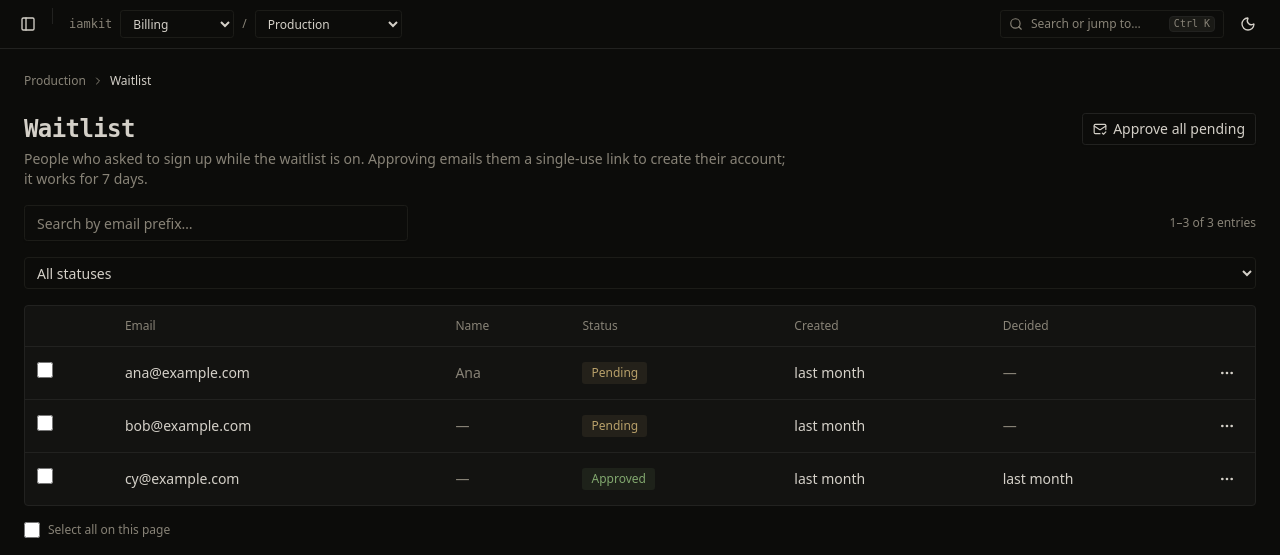
Test: filters by status and searches by email prefix
This screenshot has width=1280, height=555.
Expected: the text "ana@example.com" is shown, [125, 362, 250, 382]
Select "Approved" in the dropdown named "Filter by status". click: (640, 273)
box: [24, 257, 1256, 289]
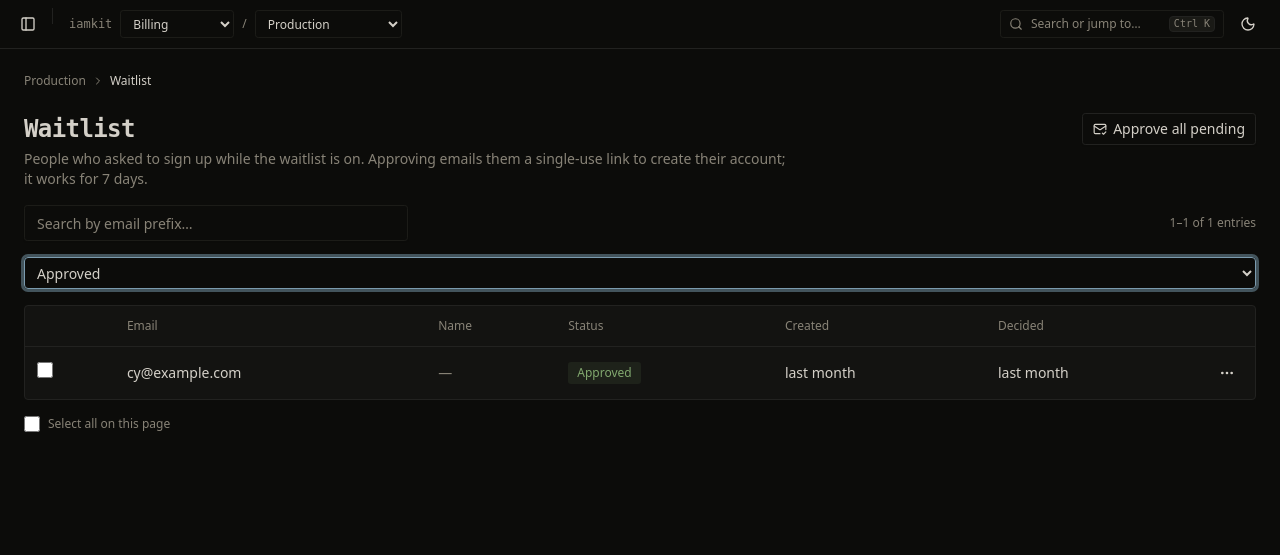
Expected: the text "cy@example.com" is shown, [127, 362, 242, 382]
Expected: the text "ana@example.com" is gone
Select "All statuses" in the dropdown named "Filter by status". click: (640, 273)
box: [24, 257, 1256, 289]
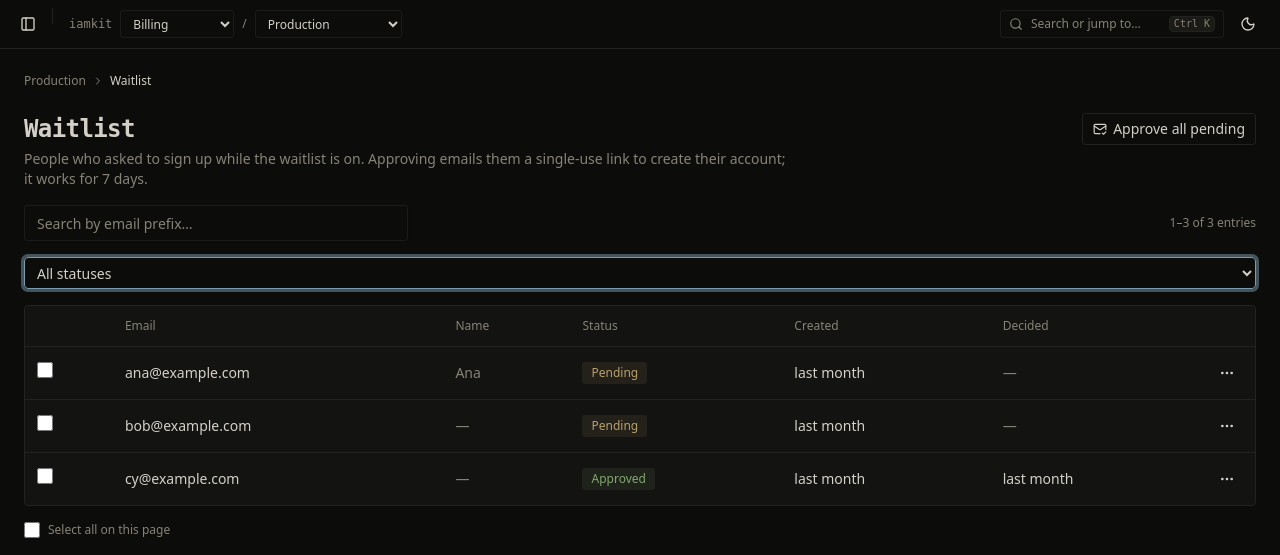
Type "bo" into the field labelled "Search by email". click: (216, 223)
box: [24, 205, 408, 241]
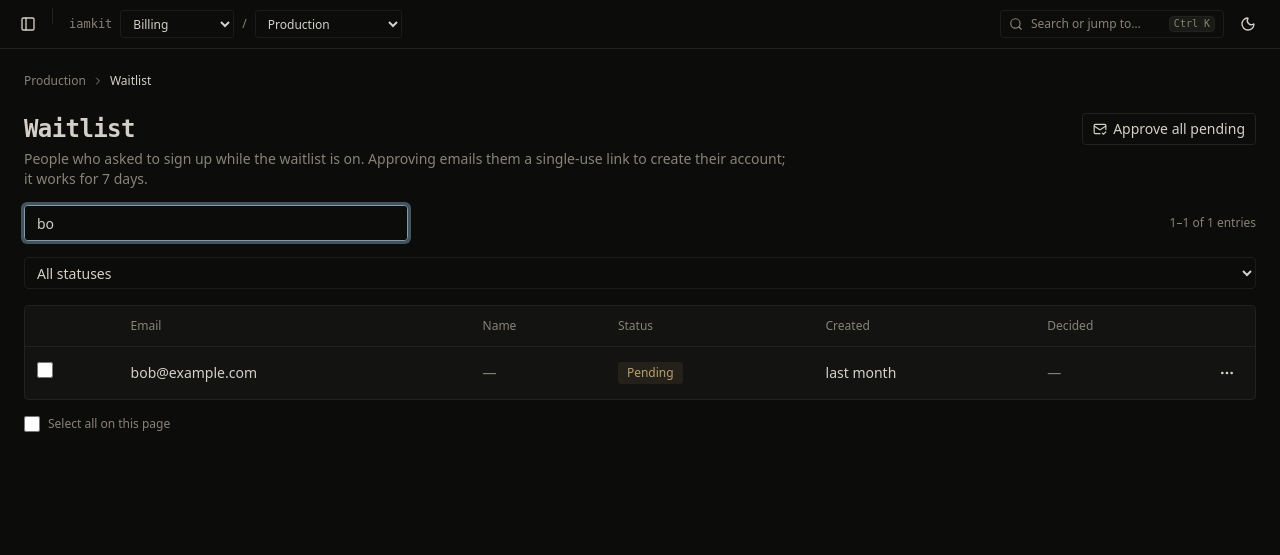
Expected: the text "bob@example.com" is shown, [131, 362, 257, 382]
Expected: the text "ana@example.com" is gone
